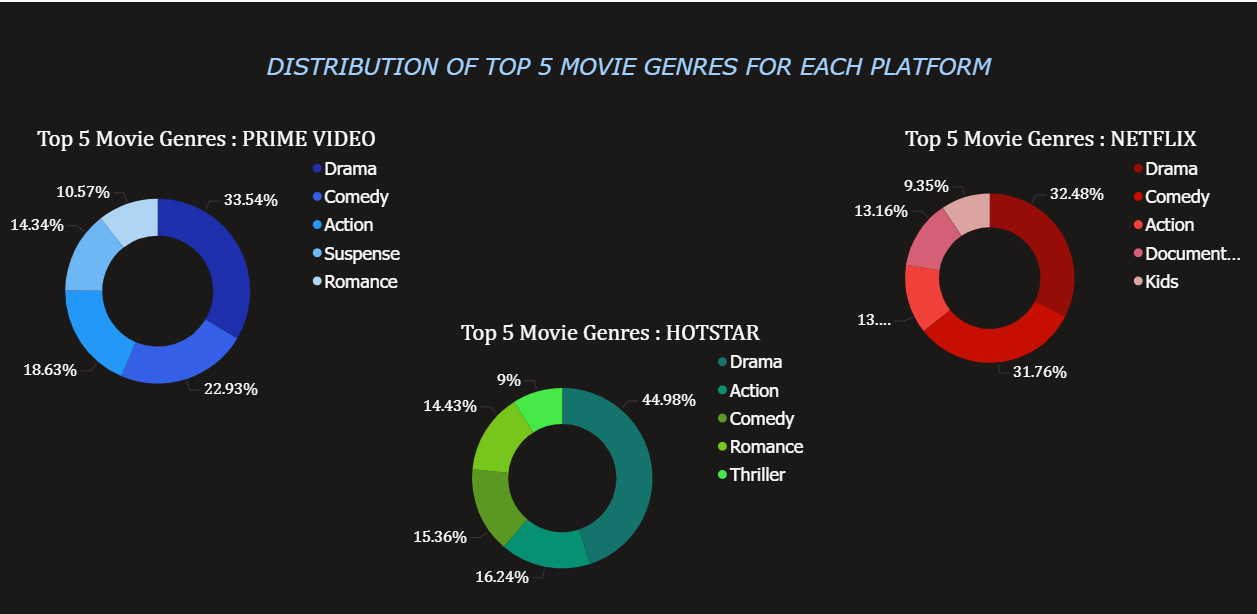

This screenshot's page, from the dashboard's own definition file:
{"tool":"powerbi","page":{"name":"Page 3","canvas":[1500,730],"ordinal":2},"visuals":[{"type":"pieChart","title":"Top 5 Movie Genres : HOTSTAR","fields":{"Category":["hotstar.genre"],"Y":["CountNonNull(hotstar.title)"],"Series":["hotstar.type"]},"box":[477.3,365.7,500.4,363.8],"z":0},{"type":"pieChart","title":"Top 5 Movie Genres : NETFLIX","fields":{"Category":["netflix.genre"],"Y":["CountNonNull(netflix.title)"],"Series":["netflix.type"]},"box":[997,136.7,503,348.4],"z":1},{"type":"pieChart","title":"Top 5 Movie Genres : PRIME VIDEO","fields":{"Category":["prime.genre"],"Y":["CountNonNull(prime.title)"],"Series":["prime.type"]},"box":[0,136.7,500,379.2],"z":2},{"type":"textbox","box":[296.4,46.2,906.6,65.4],"z":3}]}

Visuals, with their boxes in screenshot pixels (x1, y1, x2, y2), scaled from the page's 1500x730 canvas onto the 1257x614 screenshot:
"Top 5 Movie Genres : HOTSTAR" pieChart: [400, 308, 819, 613]
"Top 5 Movie Genres : NETFLIX" pieChart: [835, 115, 1256, 408]
"Top 5 Movie Genres : PRIME VIDEO" pieChart: [0, 115, 419, 434]
textbox: [248, 39, 1008, 94]
